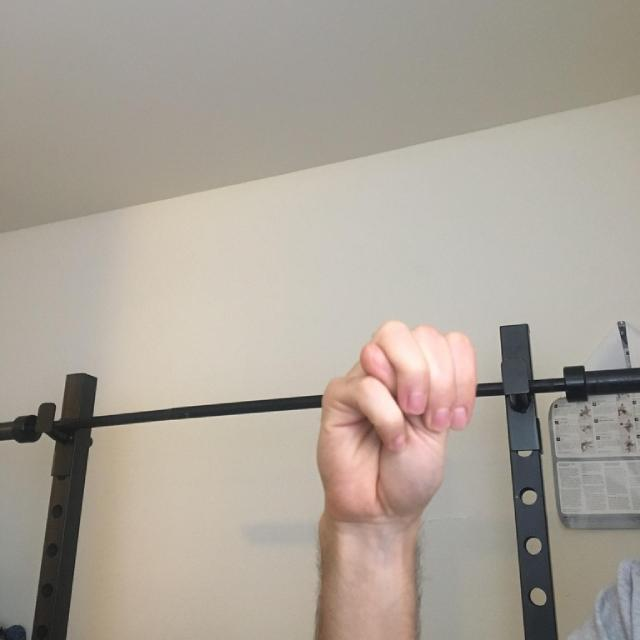M: (235, 277, 505, 540)
